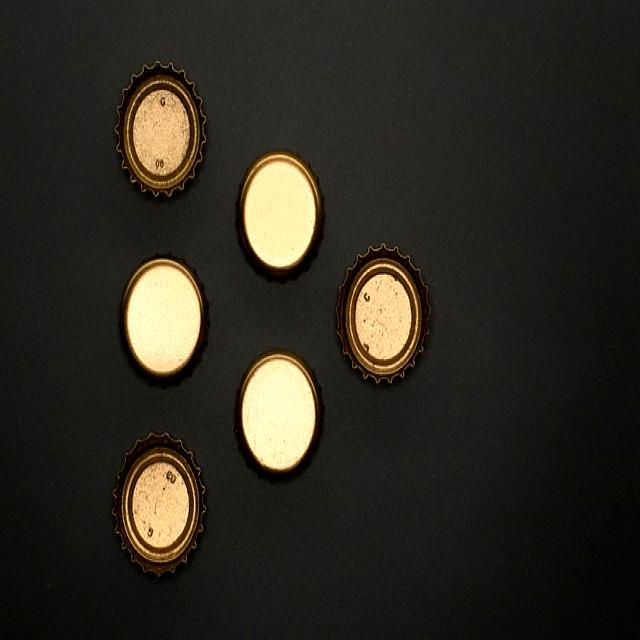Metal: (109, 428, 210, 580), (110, 56, 212, 196), (116, 246, 212, 390), (336, 238, 430, 385), (232, 346, 326, 478), (236, 145, 326, 273)
